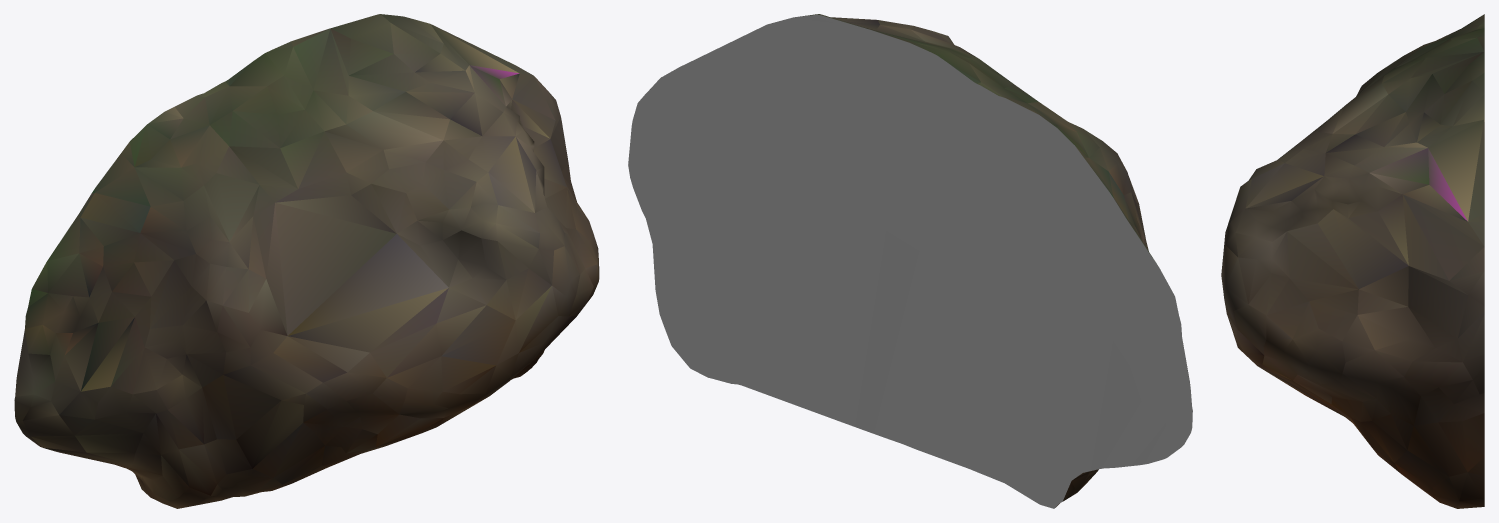
Rendered from 118_Rock7.obj.
The picture shows the model from 3 angles, left to right: view 1: azimuth 30°, elevation 25°; view 2: azimuth 150°, elevation 25°; view 3: azimuth 270°, elevation 25°; orthographic projection. The views are drawn at different scales.
Bounding box in the file's own units: 48332 × 35739 × 20170.
